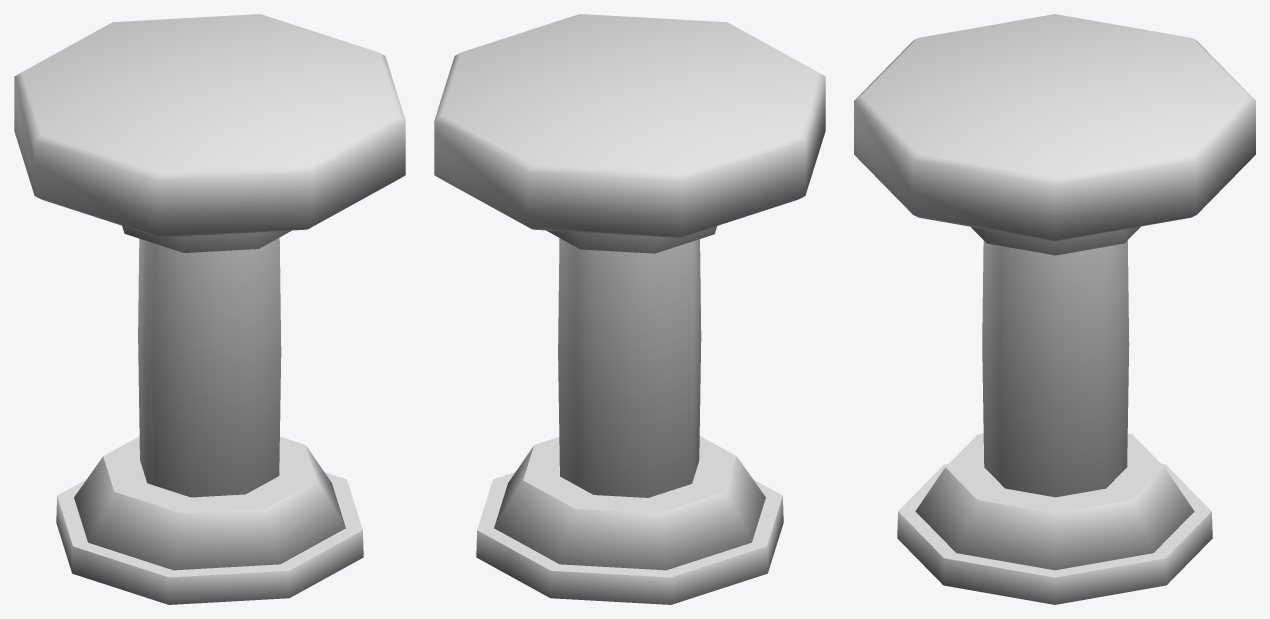
File: stone_grip_063.glb
The picture shows the model from 3 angles, left to right: view 1: azimuth 30°, elevation 25°; view 2: azimuth 150°, elevation 25°; view 3: azimuth 270°, elevation 25°; orthographic projection.
Visible parts, largest first — view 1: stone_grip.063; view 2: stone_grip.063; view 3: stone_grip.063.
Boxes of the visible parts, x1=… form: stone_grip.063: x1=14, y1=14, x2=405, y2=604; stone_grip.063: x1=434, y1=14, x2=825, y2=604; stone_grip.063: x1=854, y1=14, x2=1255, y2=604.
Size of the model in its own units: 2.72 by 3.31 by 2.72.
1 material, 1 textured.
